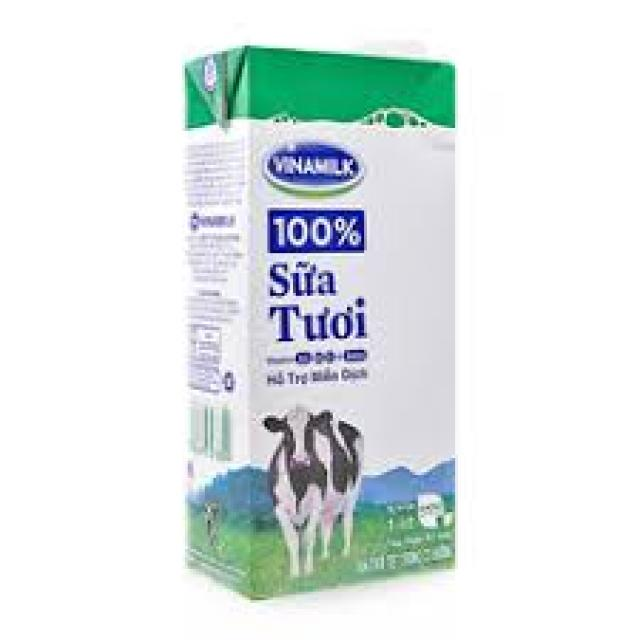non_white_jug: (126, 18, 468, 596)
